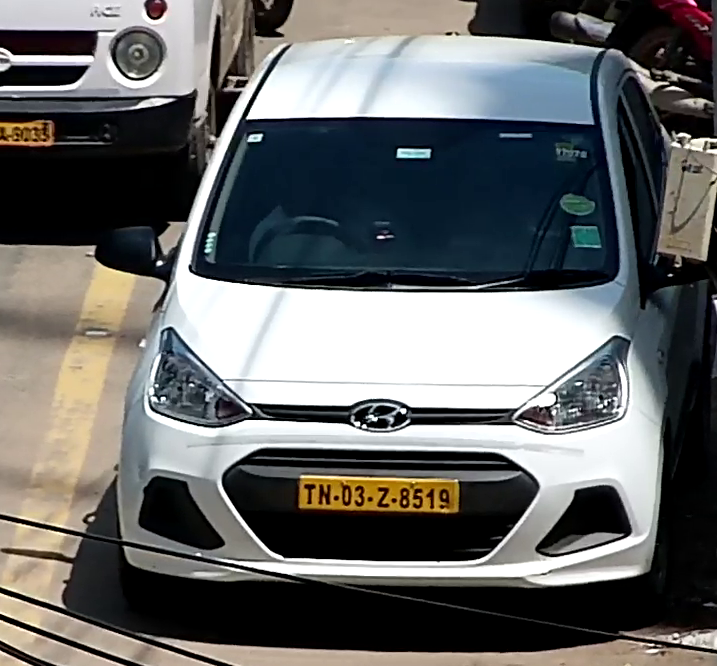-: (367, 496, 373, 502), (391, 498, 397, 504), (334, 495, 339, 501)
0: (341, 485, 352, 506)
1: (424, 488, 436, 509)
3: (353, 484, 365, 507)
5: (411, 487, 423, 509)
8: (399, 487, 410, 509)
9: (438, 488, 450, 510)
N: (316, 483, 331, 506)
P9: (295, 471, 461, 515)
T: (303, 483, 316, 505)
Z: (376, 486, 390, 508)
